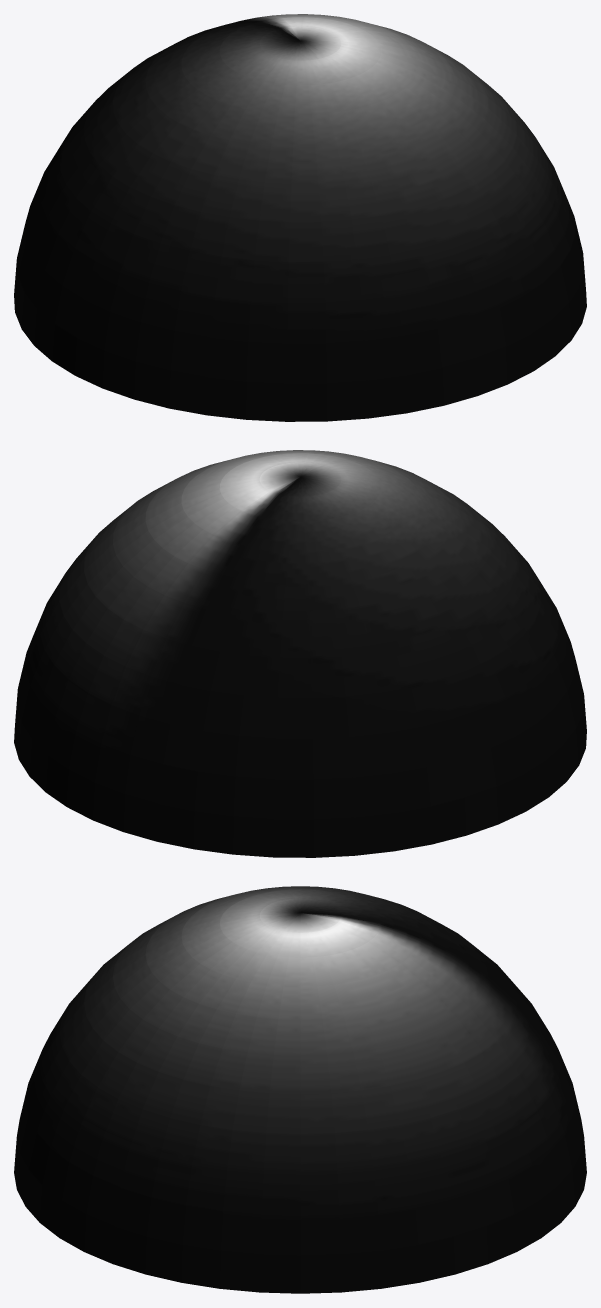
The picture shows the model from 3 angles, top to bottom: view 1: azimuth 30°, elevation 25°; view 2: azimuth 150°, elevation 25°; view 3: azimuth 270°, elevation 25°; orthographic projection.
Size of the model in its own units: 2.2 by 1.1 by 2.2.
1 material, 1 textured.
